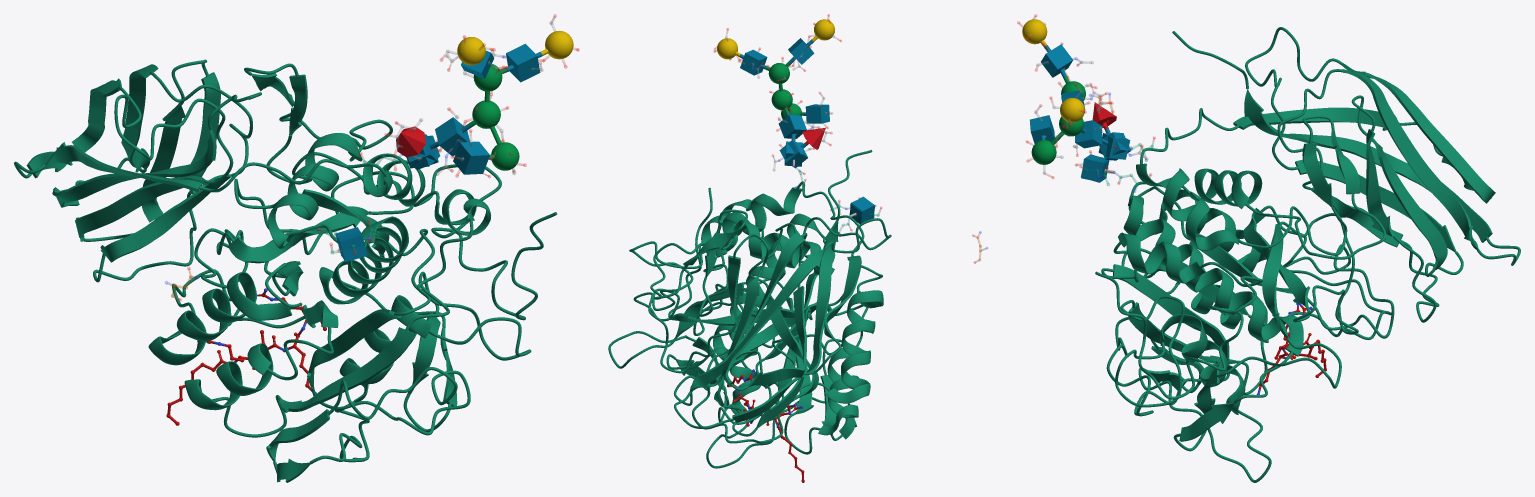
File: 1P8J-20250310T221620014Z-dnjnzs.glb
3 views of the same model, side by side, from view 1: azimuth 30°, elevation 25°; view 2: azimuth 150°, elevation 25°; view 3: azimuth 270°, elevation 25° (orthographic). The views are drawn at different scales.
Size of the model in its own units: 57.39 by 70.05 by 70.03.
